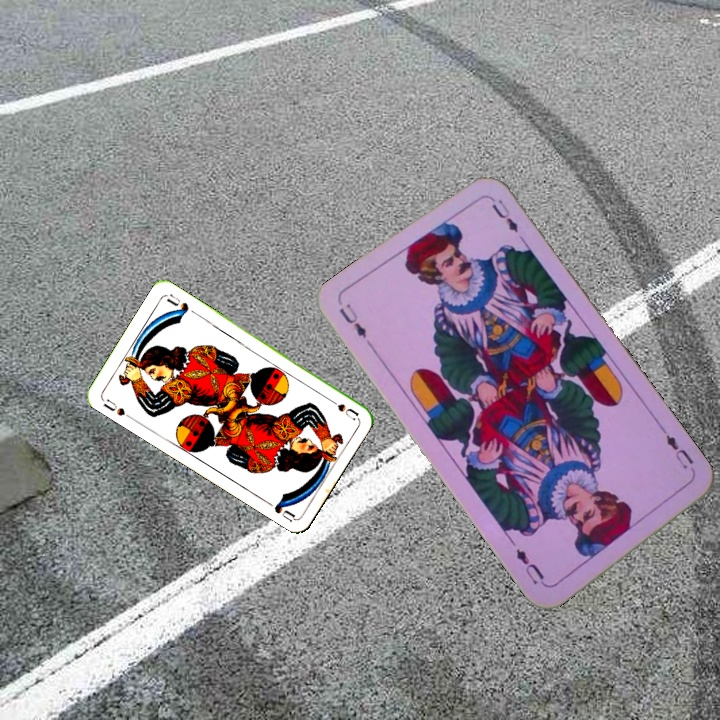EU: (658, 427, 699, 479), (335, 299, 370, 341)
SU: (322, 393, 361, 423), (99, 395, 135, 422)
